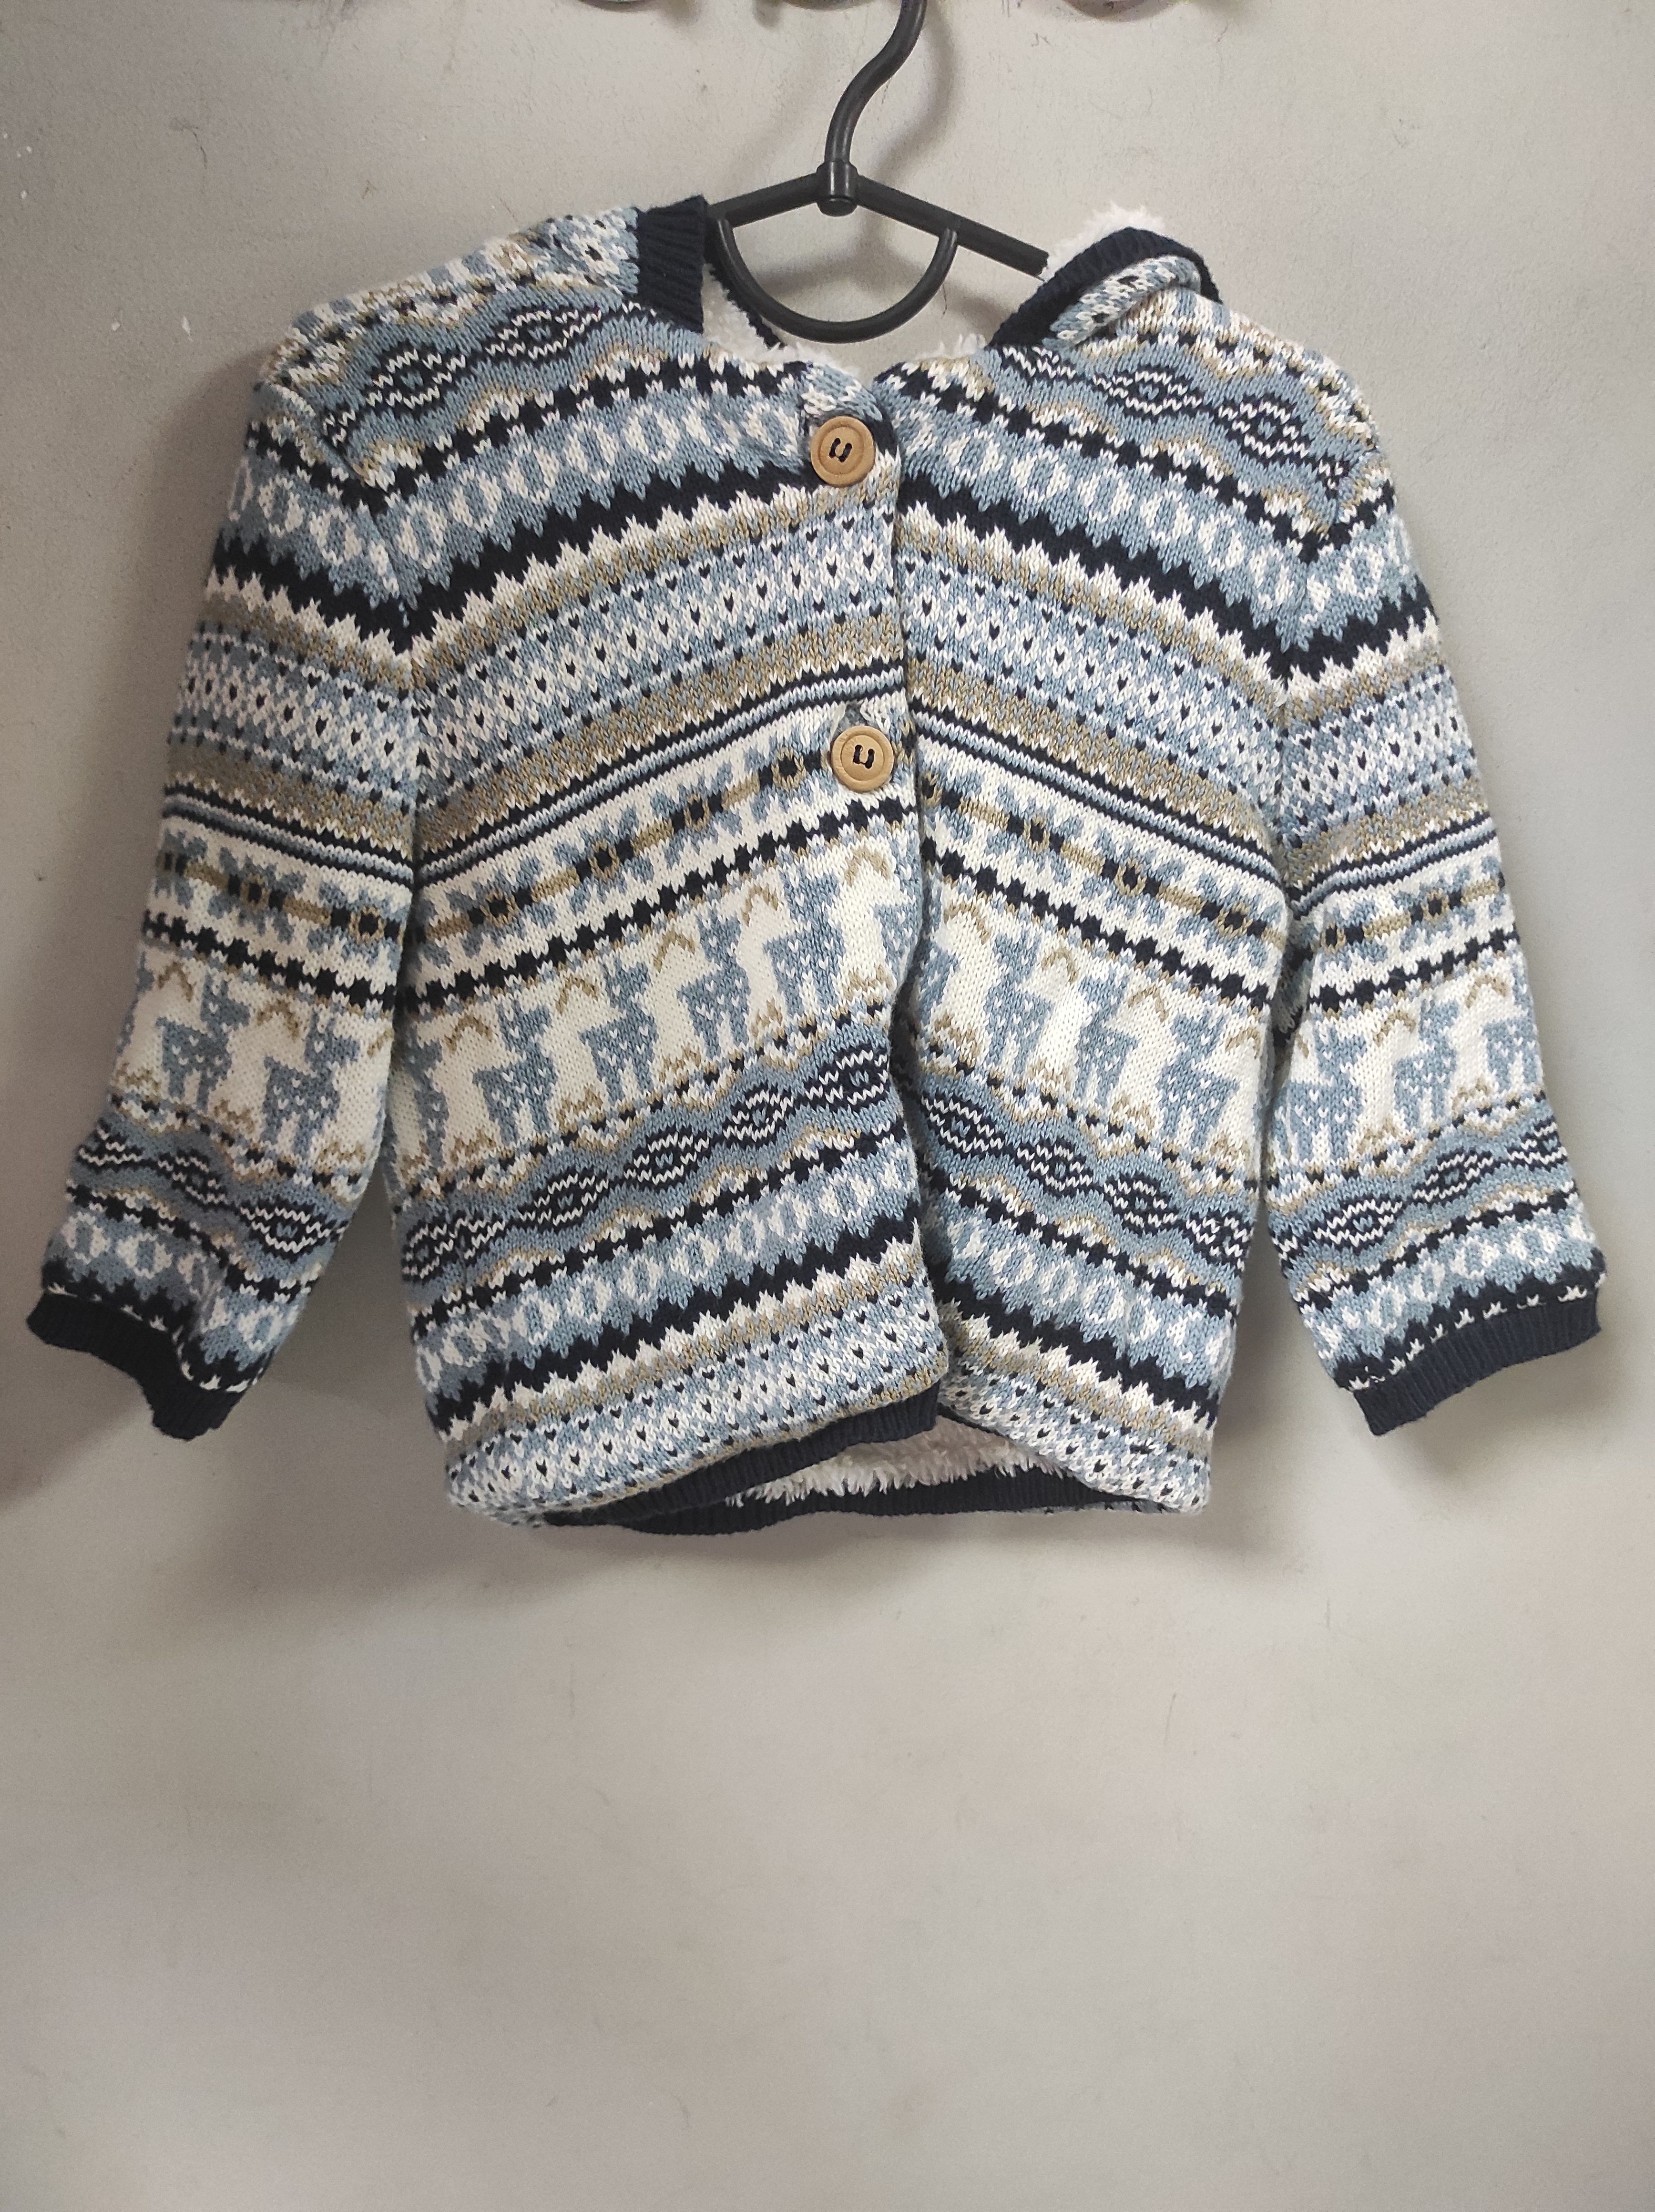clothes: (14, 198, 1613, 1558)
